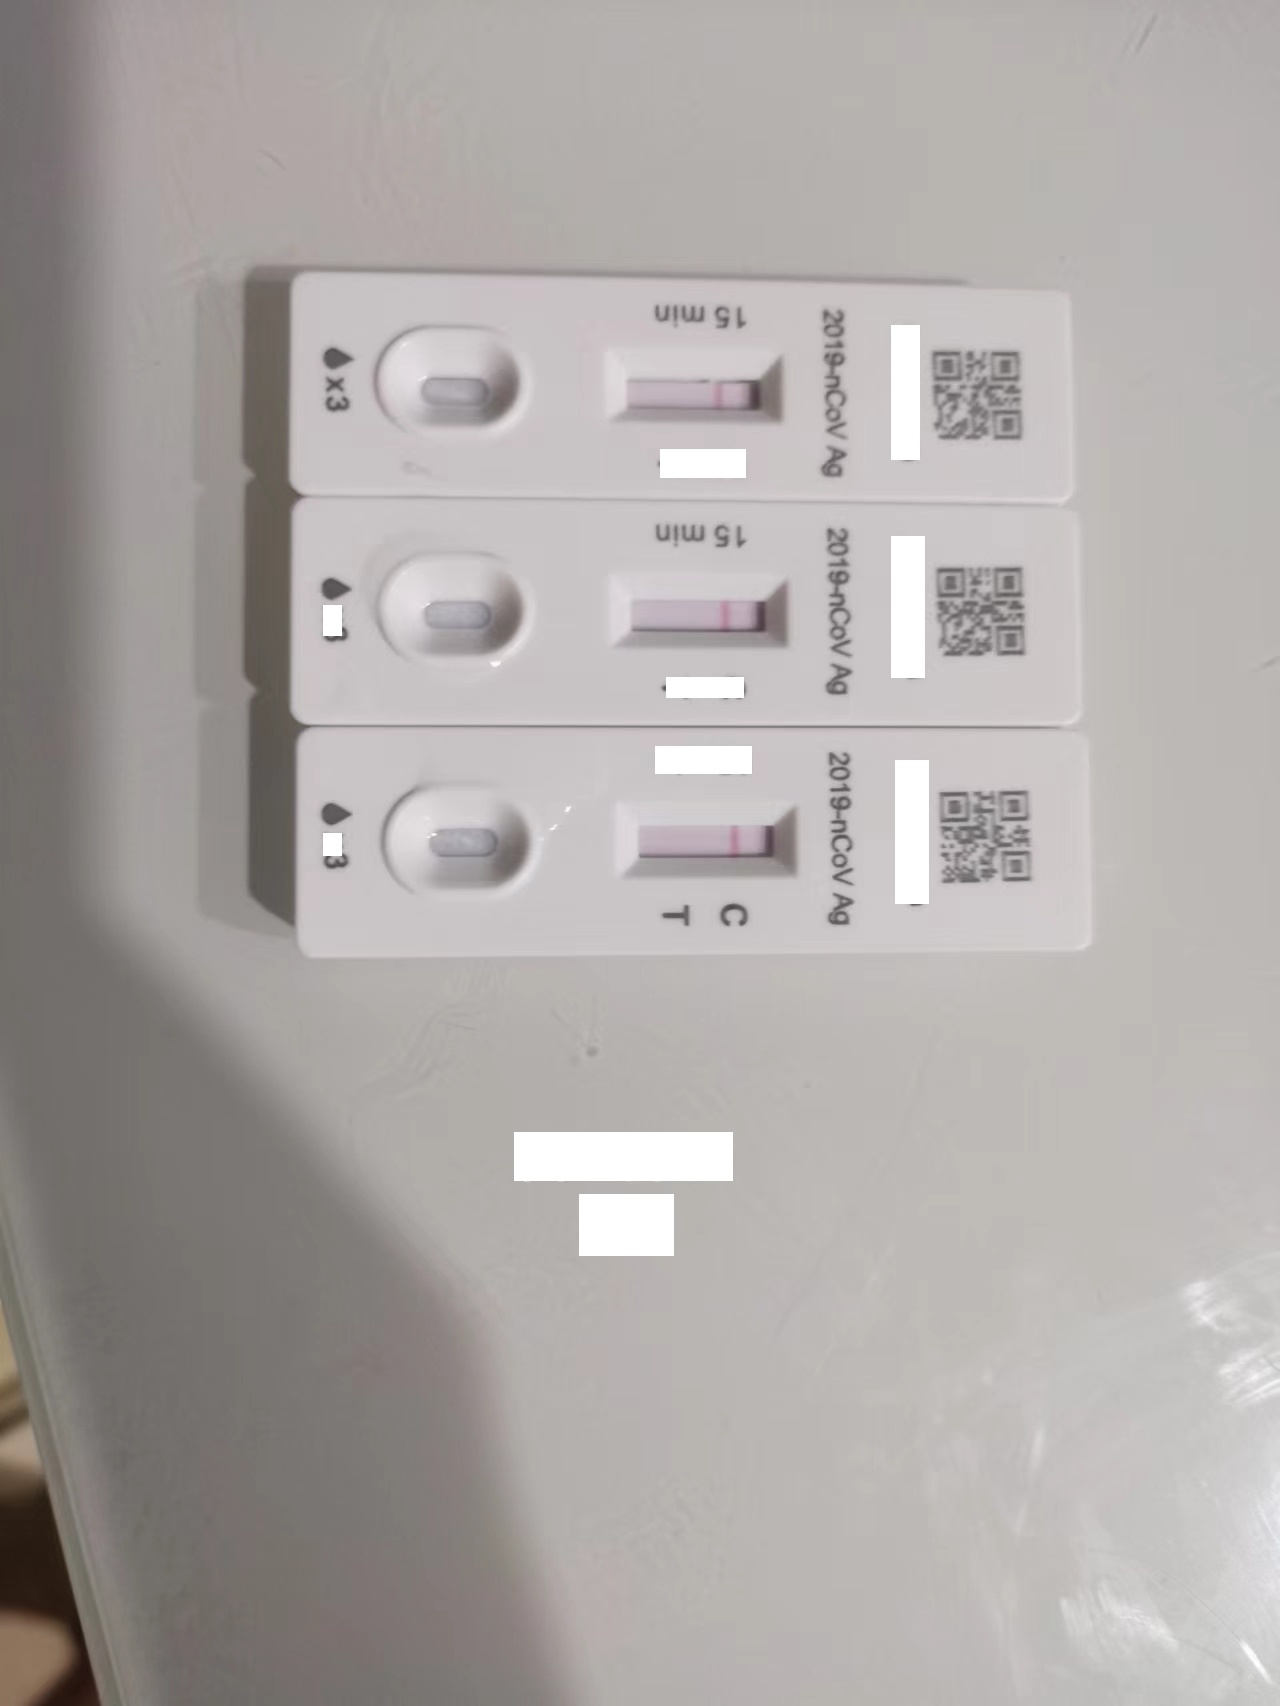negative: (610, 577, 793, 651), (621, 807, 800, 874), (604, 354, 787, 418)
